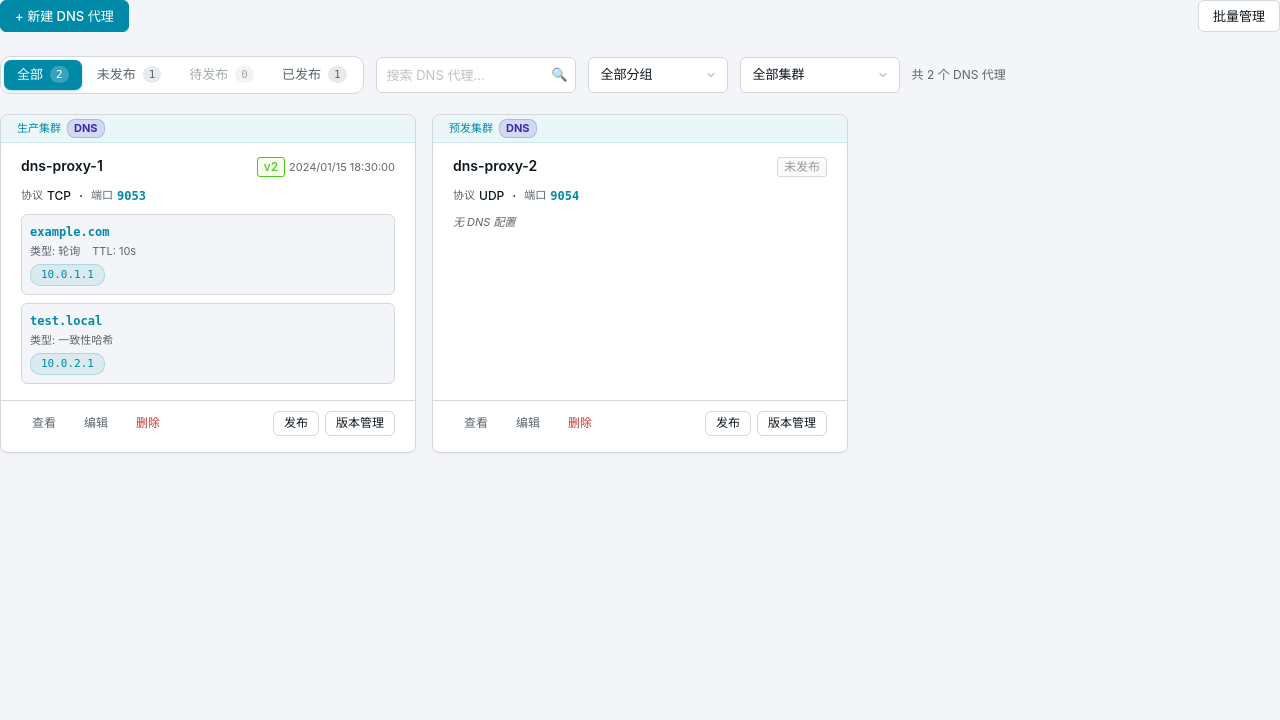
Test: DnsUdpProxyList.vue 批量管理 › 勾选卡片后计数更新、批量删除按钮启用
Click the button "批量管理" at coordinates (1239, 16), box [1198,0,1279,32]
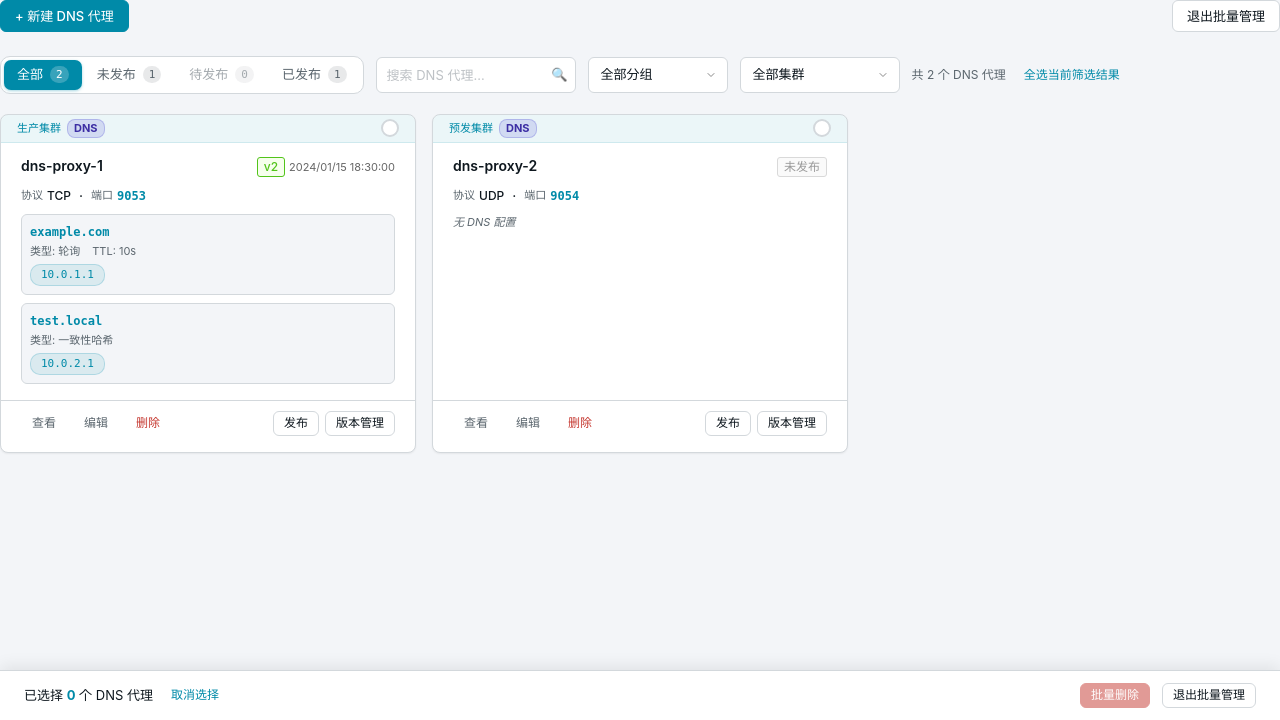
Click the element with class "sp-checkbox" in the row of "生产集群" at coordinates (390, 128), box [381,119,399,137]
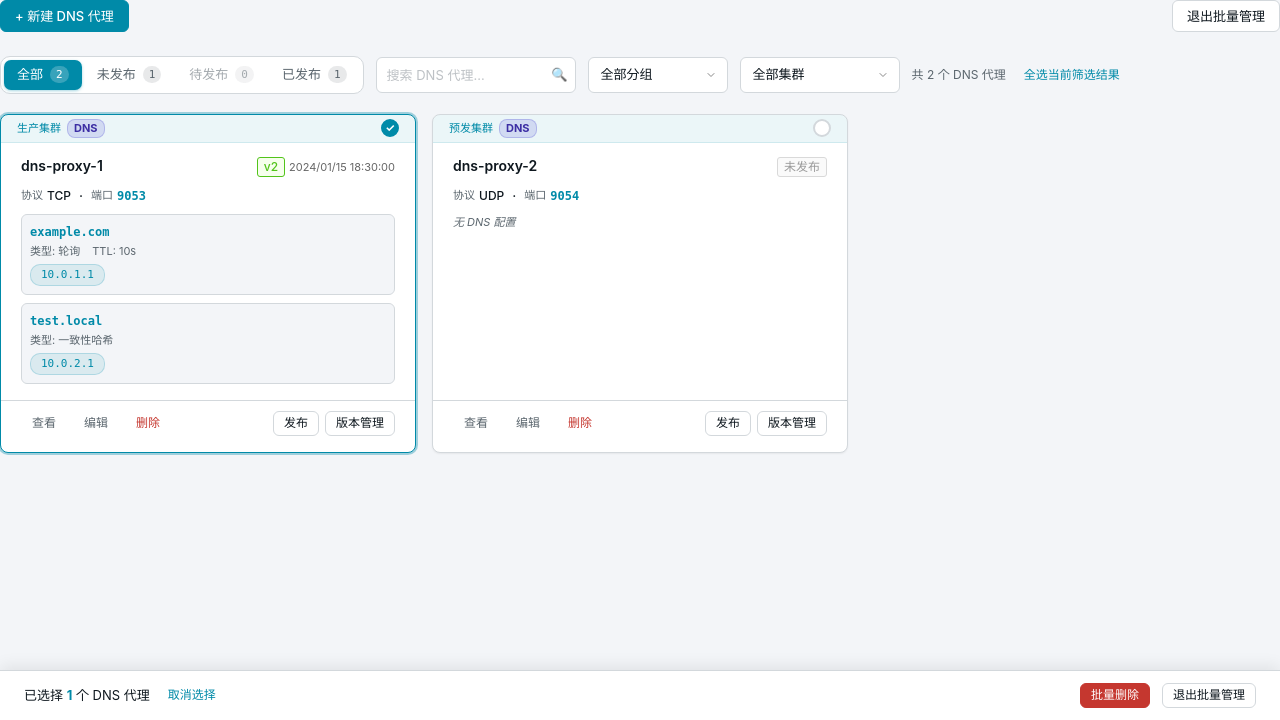
Expected: the number of elements with class "selected" is 1, [0,114,416,453]
Now the element with class "sp-batch-bar" shows "1", box [67,687,72,703]
Now the button "批量删除" is enabled, box [1080,683,1150,708]
